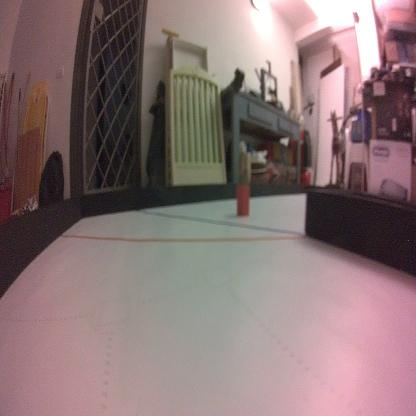red: (236, 182, 250, 218)
